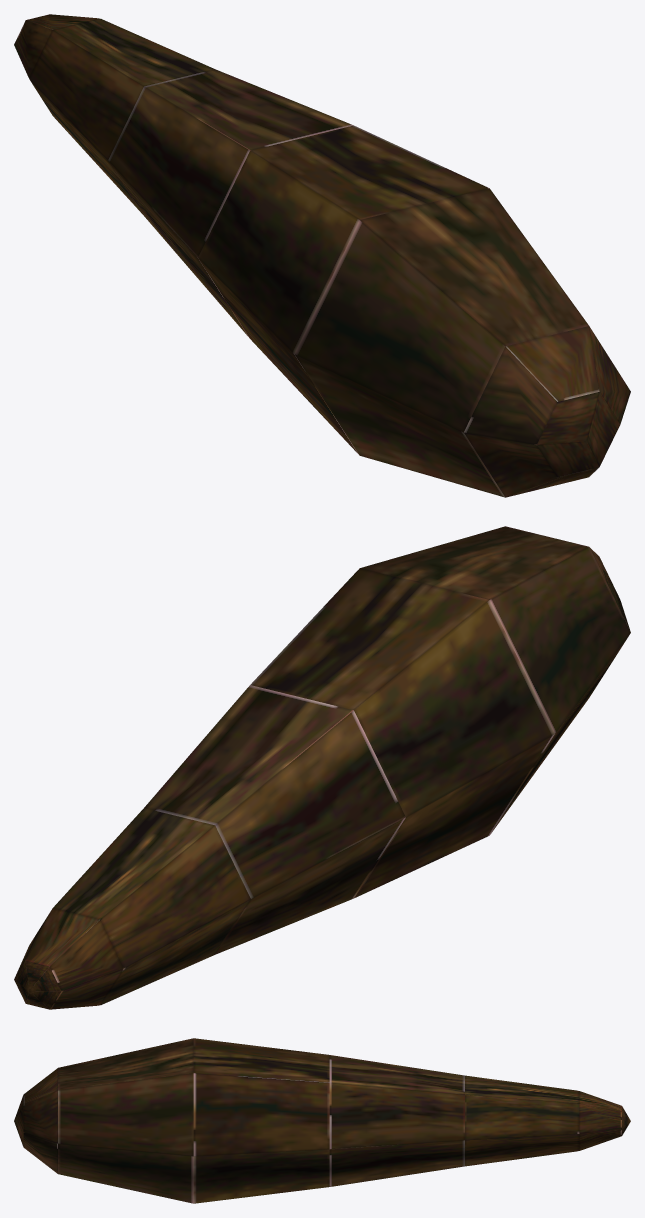
3 views of the same model, one above another, from view 1: azimuth 30°, elevation 25°; view 2: azimuth 150°, elevation 25°; view 3: azimuth 270°, elevation 25° (orthographic). The views are drawn at different scales.
Visible parts, largest first — view 1: T1L8M004_2; view 2: T1L8M004_2; view 3: T1L8M004_2.
Part boxes in pixels (left/top/right/bottom): T1L8M004_2: left=14, top=14, right=630, bottom=497; T1L8M004_2: left=14, top=526, right=630, bottom=1009; T1L8M004_2: left=14, top=1038, right=630, bottom=1203.
Bounding box in the file's own units: 0.5615 × 0.4854 × 2.08.
